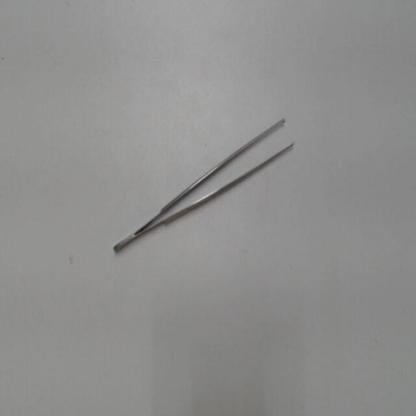Gillies Toothed Dissector: (106, 107, 312, 262)
